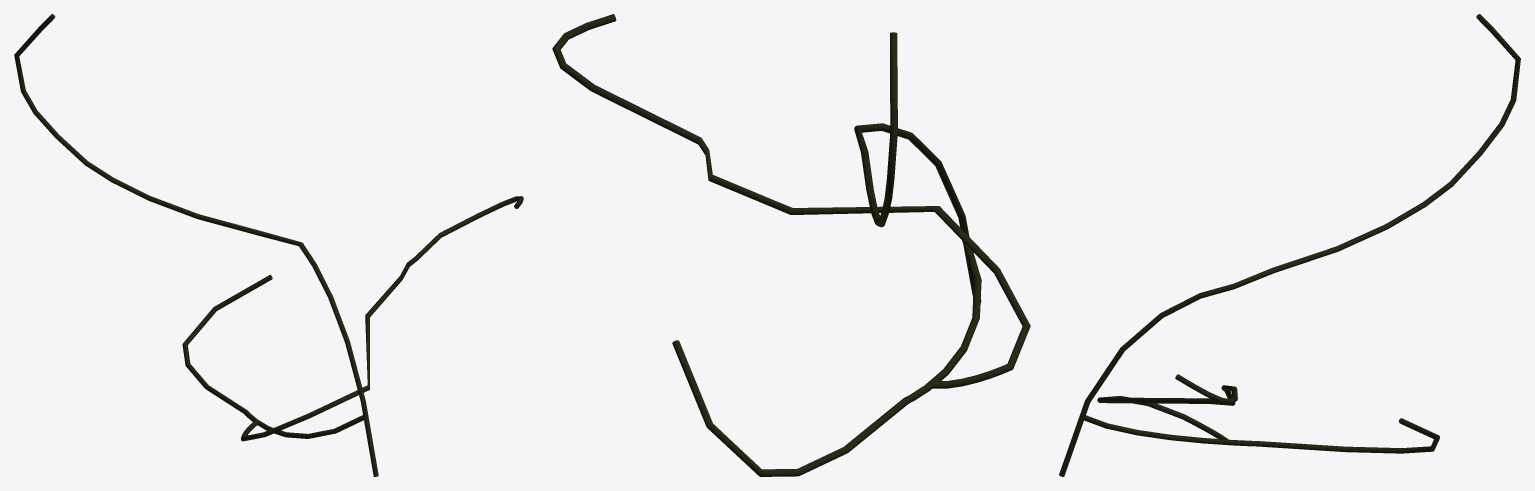
File: SM_BrushCore.fbx
3 views of the same model, side by side, from view 1: azimuth 30°, elevation 25°; view 2: azimuth 150°, elevation 25°; view 3: azimuth 270°, elevation 25° (orthographic). The views are drawn at different scales.
Parts seen in each view (by area): view 1: Tronc; view 2: Tronc; view 3: Tronc.
Part boxes in pixels (x1=…): Tronc: x1=14, y1=14, x2=523, y2=476; Tronc: x1=552, y1=14, x2=1030, y2=476; Tronc: x1=1059, y1=14, x2=1520, y2=476.
Bounding box in the file's own units: 25.26 × 23.29 × 24.98.
